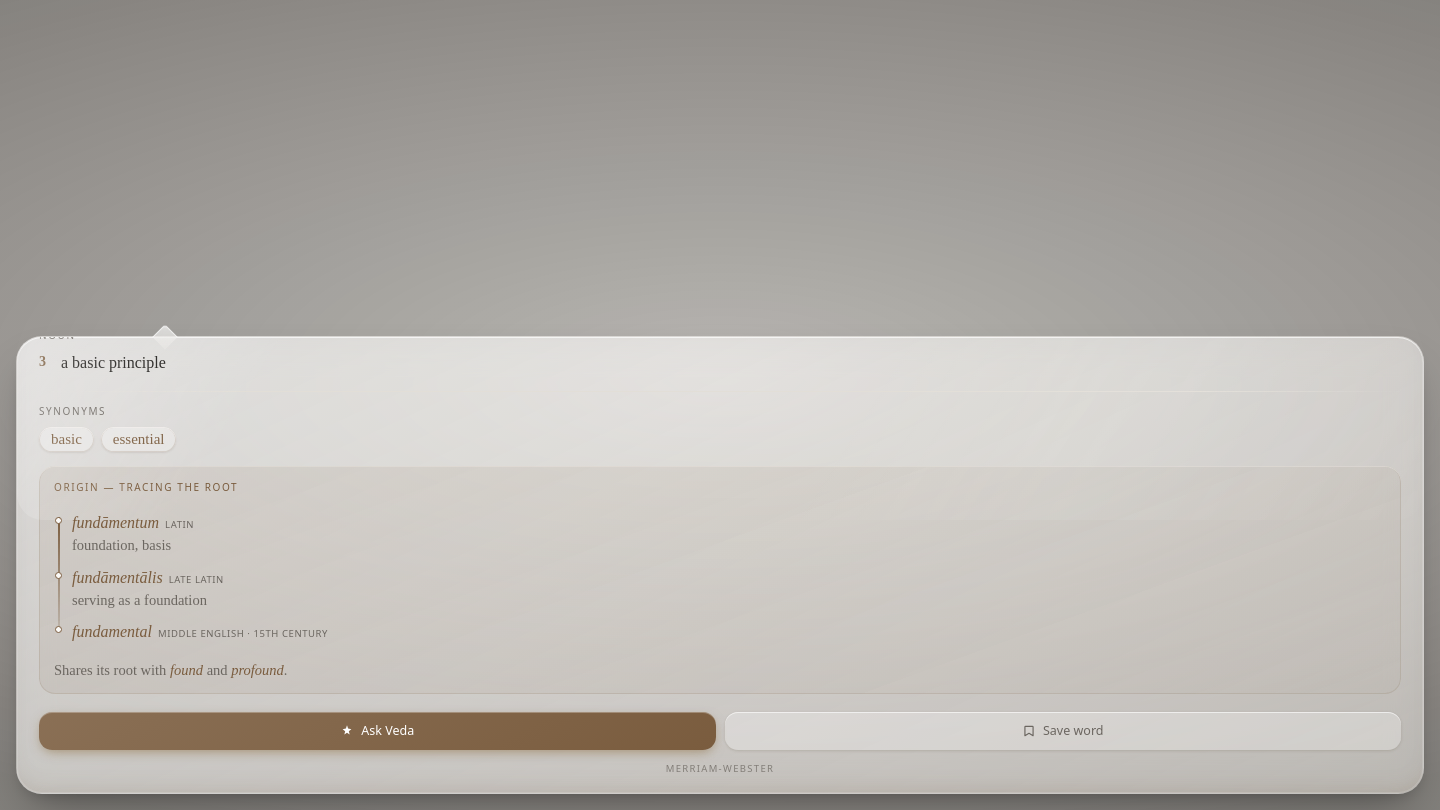
Test: the things a reader can do in the panel › lets a saved word go again
This screenshot has width=1440, height=810.
(page scrolled)
Click the button "Save word": [1063, 731] box [724,712,1401,750]
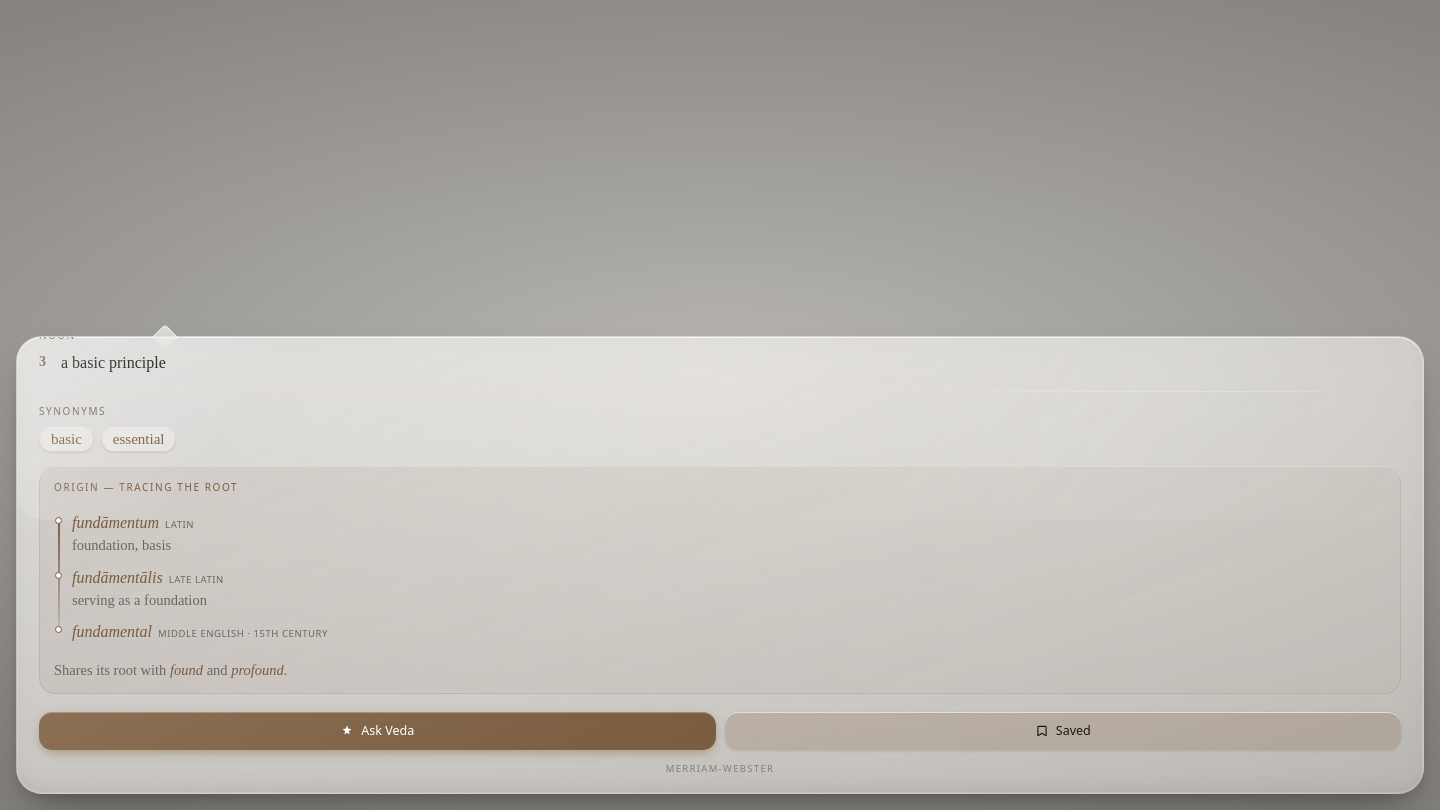
Click the button "Saved": [1063, 731] box [724,712,1401,750]
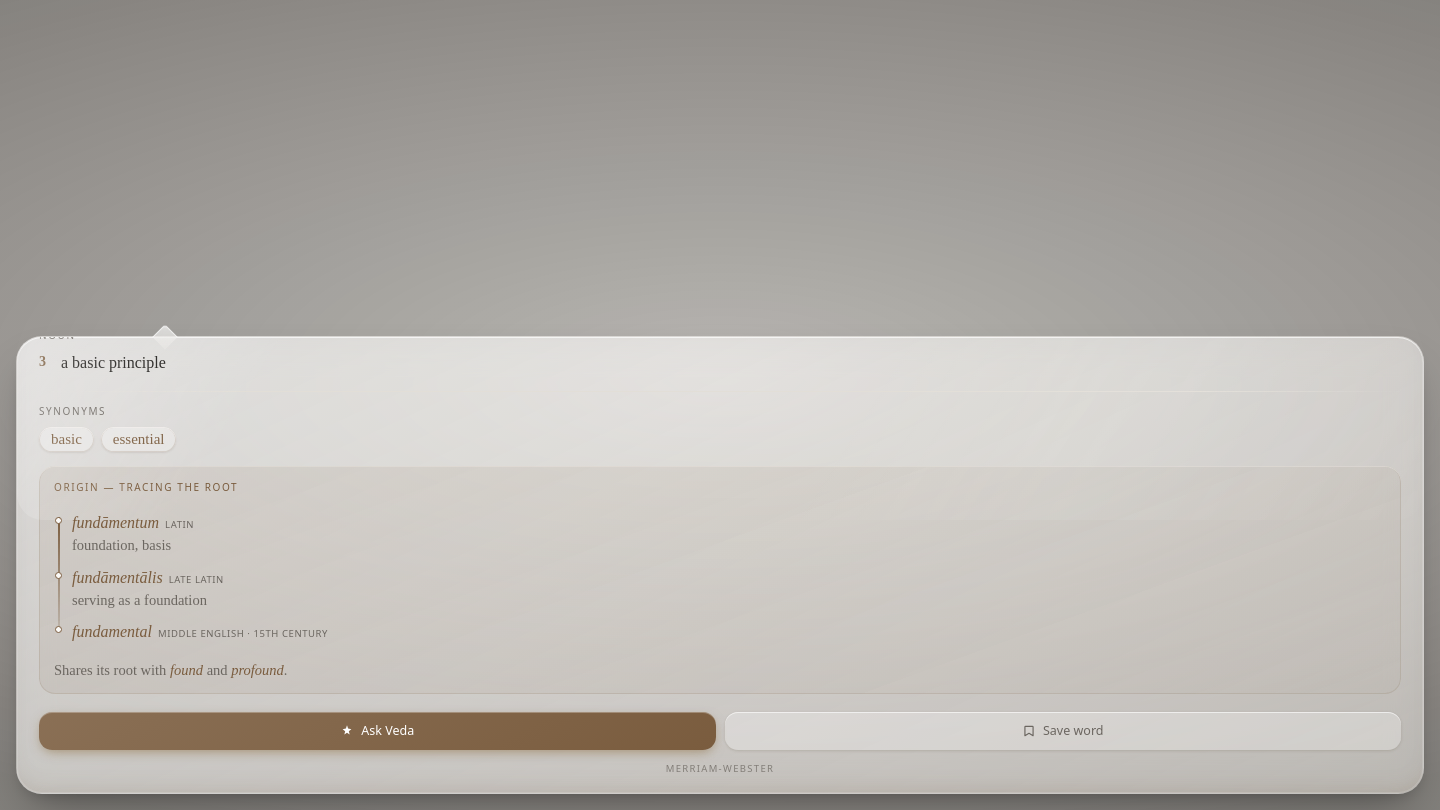
expect the button "Save word" is shown: met, box [724,712,1401,750]
